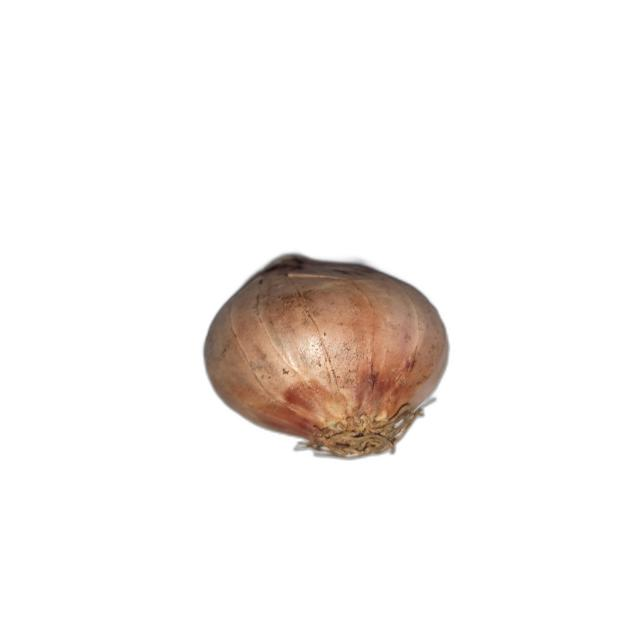onion: (199, 251, 452, 462)
